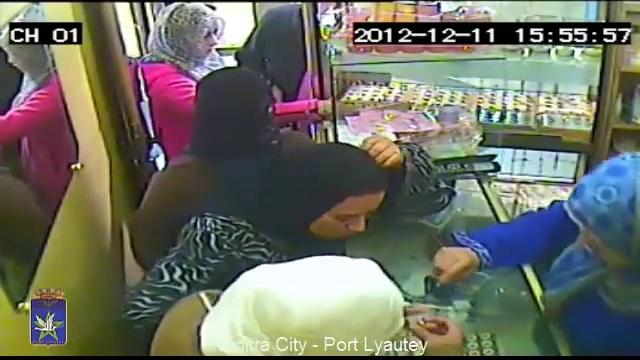Regular: (465, 86, 640, 360), (116, 231, 445, 360), (138, 0, 355, 150), (275, 145, 399, 261), (184, 49, 279, 156)
